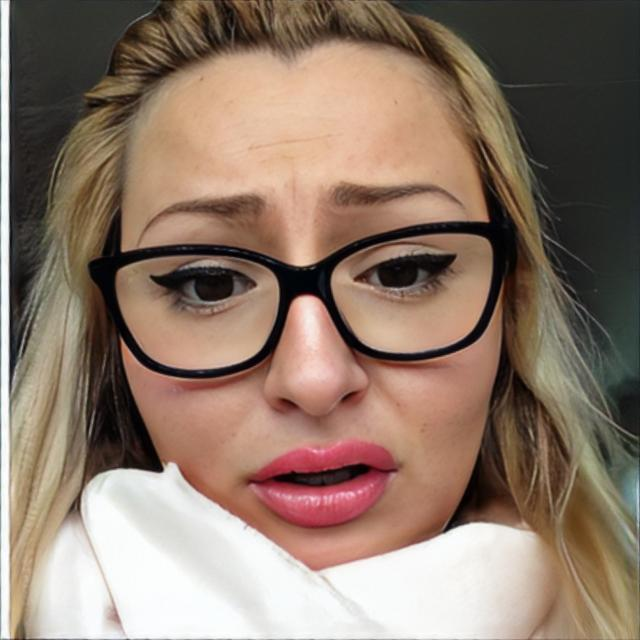sad: (113, 48, 504, 575)
